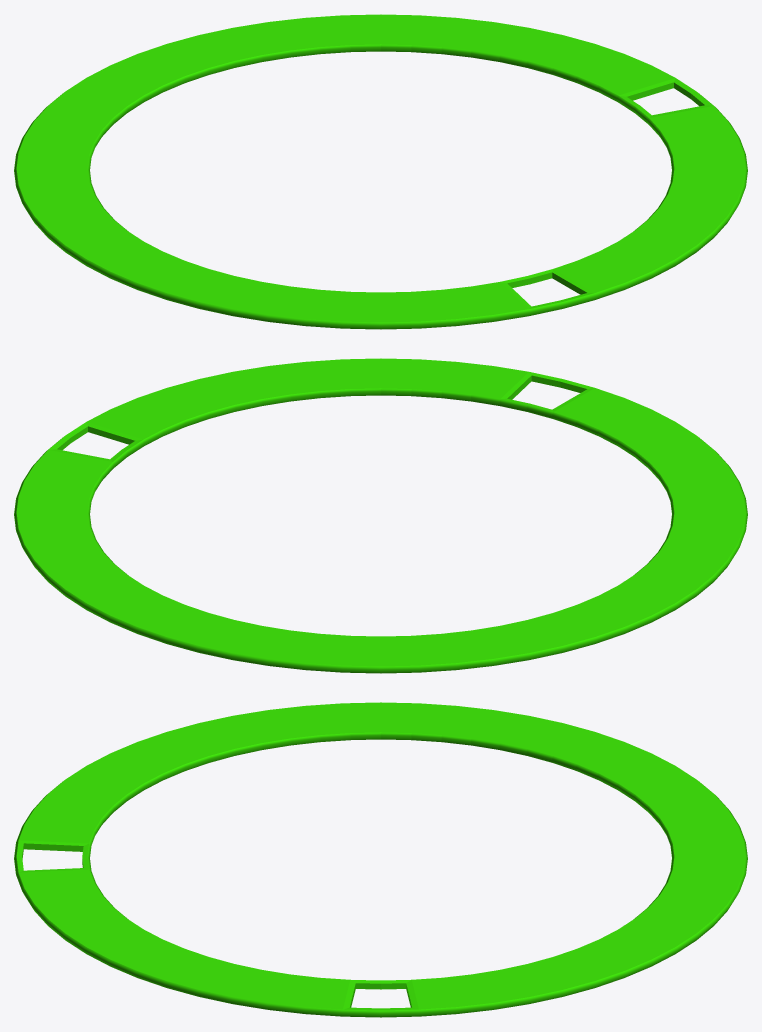
Rendered from Code_Cylinder_Hole_01.fbx.
3 views of the same model, one above another, from view 1: azimuth 30°, elevation 25°; view 2: azimuth 150°, elevation 25°; view 3: azimuth 270°, elevation 25° (orthographic).
Visible parts, largest first — view 1: Code_Cylinder_Hole_01; view 2: Code_Cylinder_Hole_01; view 3: Code_Cylinder_Hole_01.
Boxes of the visible parts, bbox=[...] form: Code_Cylinder_Hole_01: bbox=[14, 14, 747, 329]; Code_Cylinder_Hole_01: bbox=[14, 358, 747, 673]; Code_Cylinder_Hole_01: bbox=[14, 702, 747, 1017].
Size of the model in its own units: 204 by 2.15 by 204.
